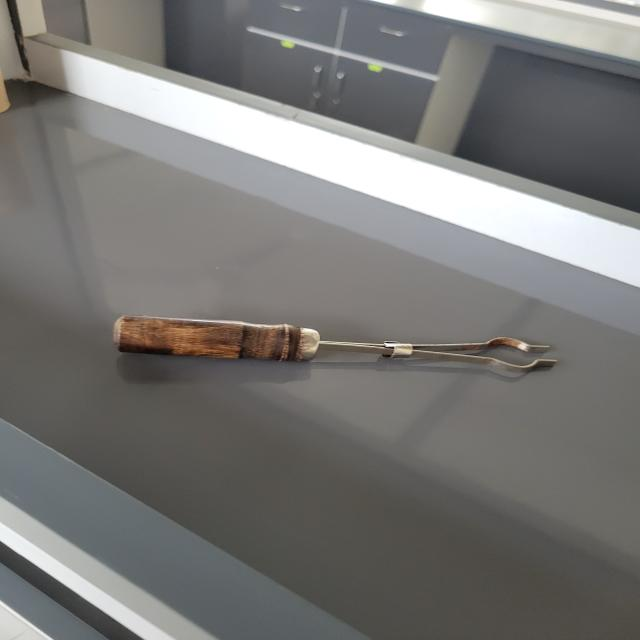TestTube_Holder: (90, 272, 568, 431)
